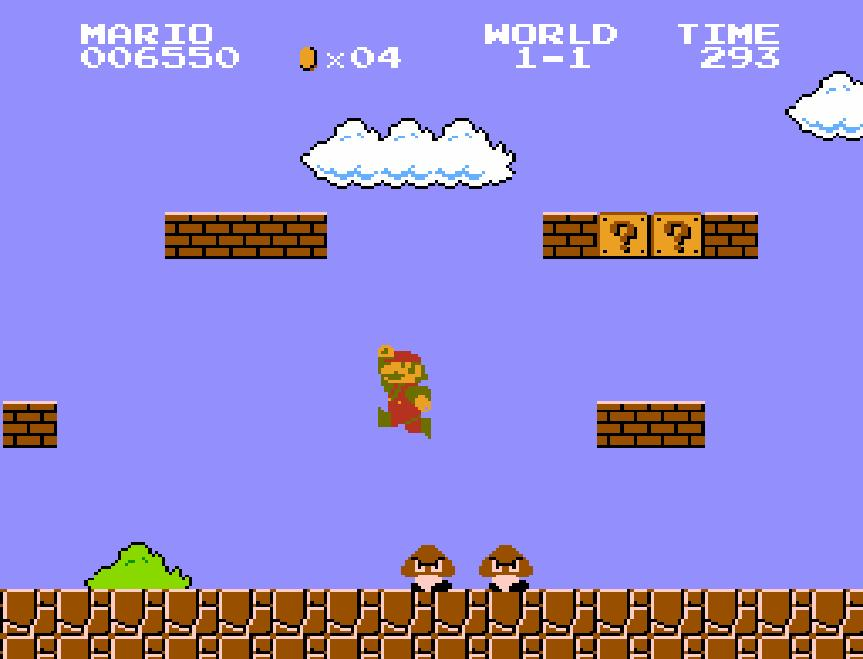big_mario: (376, 342, 434, 440)
